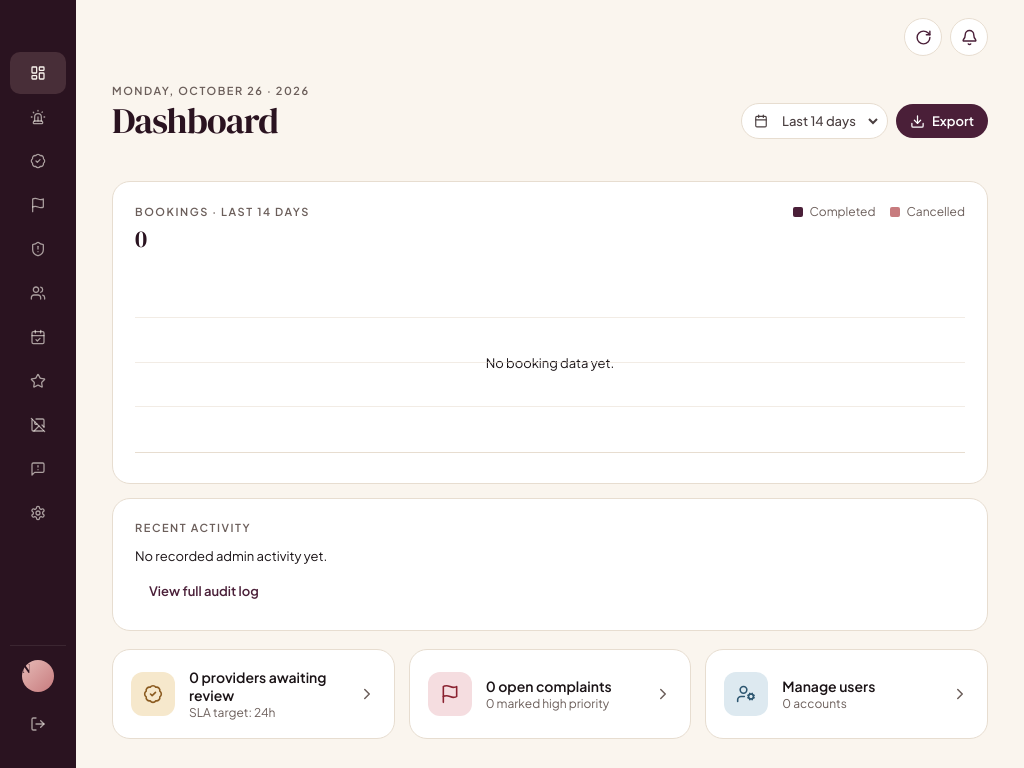
Scenario: <App> — CR-18 sign-out › clears the tokens and shows the sign-in screen even when the logout request hangs
This screenshot has width=1024, height=768.
What coordinates should you click on to do the following:
click the 12th button named "Logout"
I would click on:
 (38, 724)
Its box is x1=10 y1=704 x2=66 y2=744.
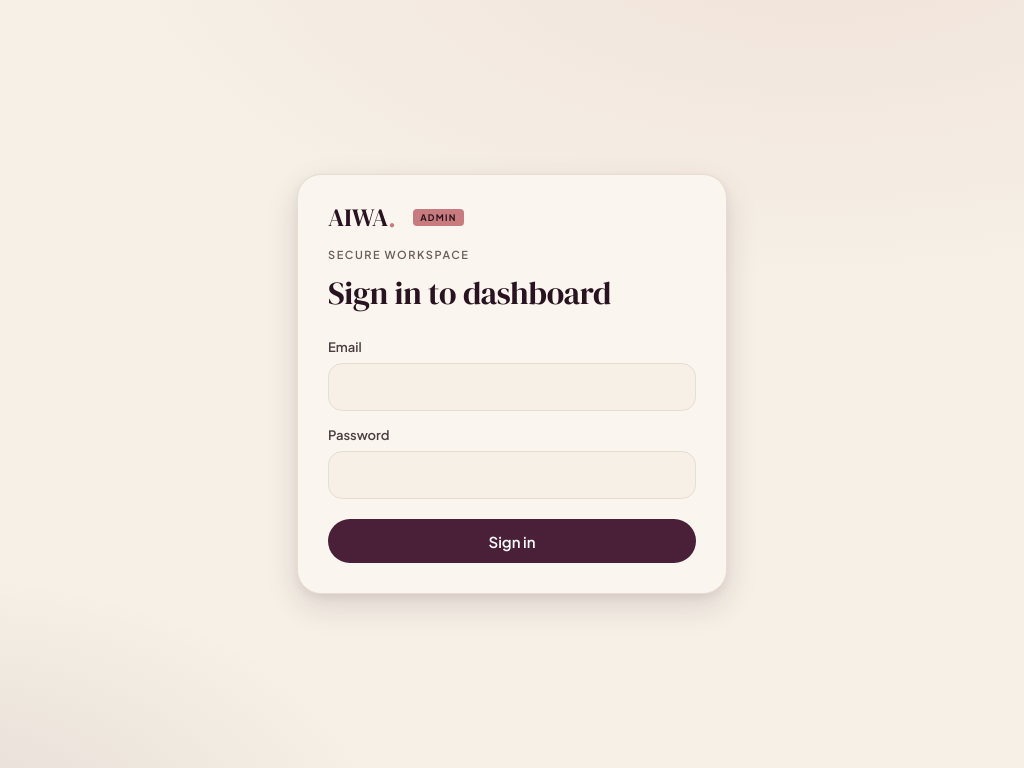
expect the heading "Sign in to dashboard" is shown: met, box x1=328 y1=271 x2=611 y2=315
